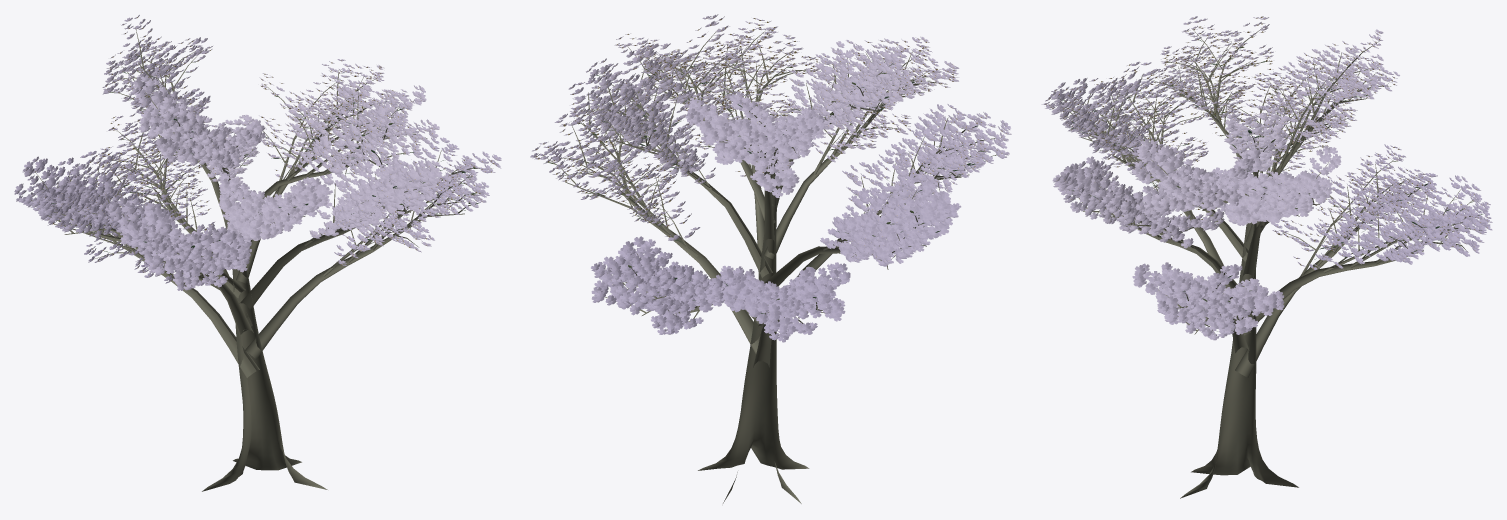
The picture shows the model from 3 angles, left to right: view 1: azimuth 30°, elevation 25°; view 2: azimuth 150°, elevation 25°; view 3: azimuth 270°, elevation 25°; orthographic projection. The views are drawn at different scales.
Parts seen in each view (by area): view 1: leaves, branches; view 2: leaves, branches; view 3: leaves, branches.
Boxes of the visible parts, x1,y1,x2,y2 form: leaves: (14, 15, 501, 290); branches: (31, 27, 491, 491); leaves: (530, 14, 1011, 342); branches: (542, 29, 1001, 503); leaves: (1041, 16, 1492, 340); branches: (1063, 28, 1481, 498).
Bounding box in the file's own units: 9.26 × 9.2 × 8.73.
